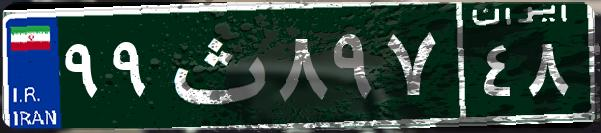4: (475, 38, 525, 113)
7: (385, 28, 445, 110)
8: (273, 28, 330, 110), (525, 38, 570, 115)
9: (330, 28, 385, 110), (57, 26, 110, 107), (110, 28, 158, 105)
ث: (158, 15, 273, 115)
